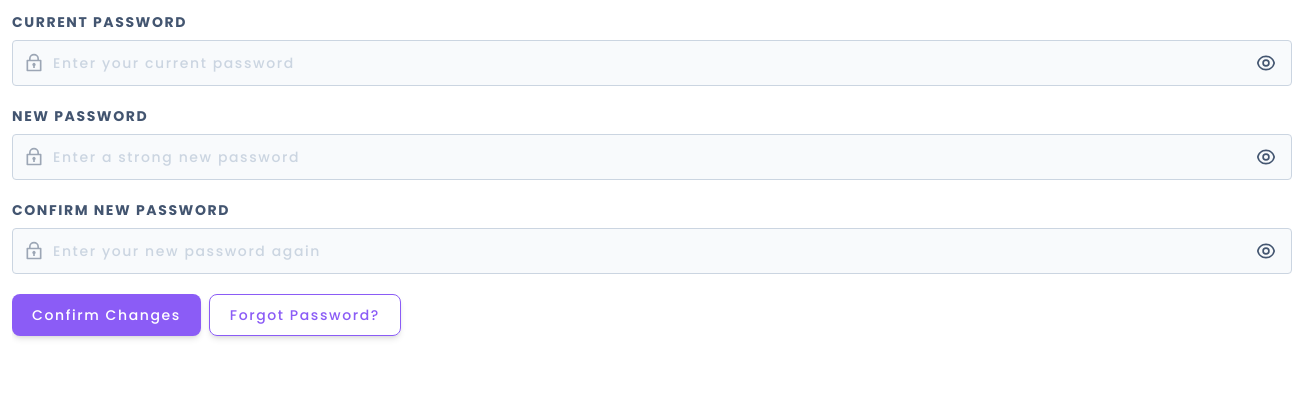
it: PasswordUpdateForm › should display error messages for invalid inputs
Click the button "Confirm Changes" at (106,315), box left=12, top=294, right=201, bottom=336
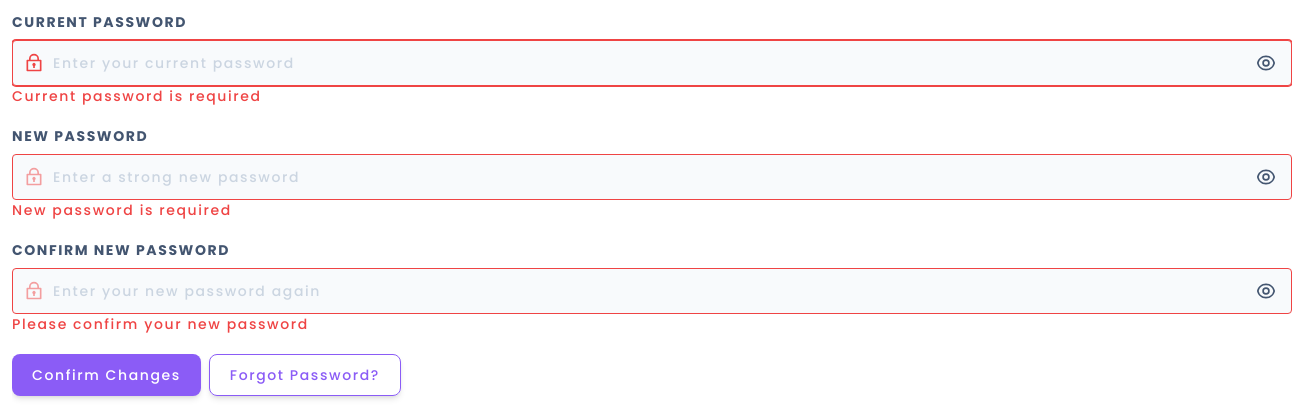
Now the text "Current password is required" is shown, box left=12, top=86, right=262, bottom=106
Now the text "New password is required" is shown, box left=12, top=200, right=232, bottom=220
Now the text "Please confirm your new password" is shown, box left=12, top=314, right=309, bottom=334
Type "weak" into the password field labelled "Current Password" at (652,63), box left=12, top=40, right=1292, bottom=86
Leave the password field labelled "Current Password", box left=12, top=40, right=1292, bottom=86
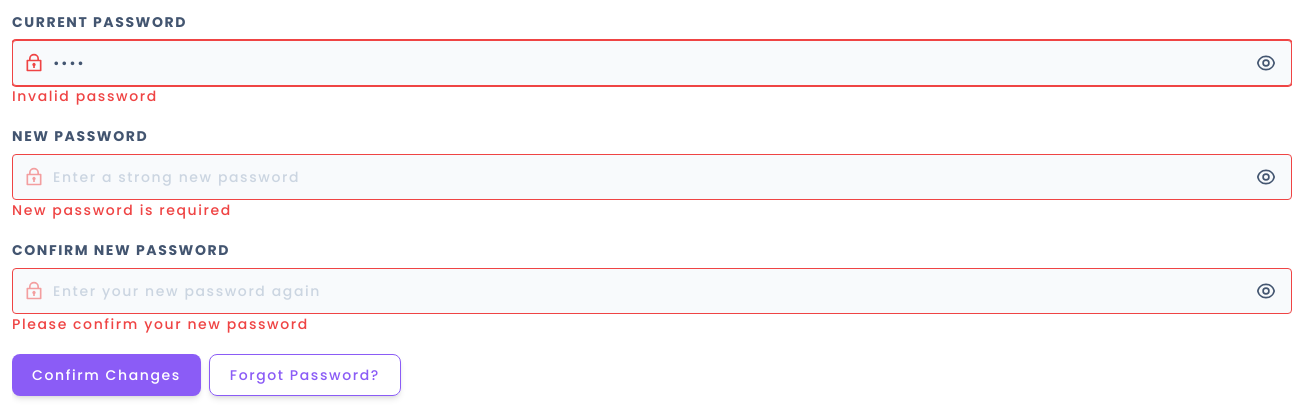
Now the text "Invalid password" is shown, box left=12, top=86, right=158, bottom=106
Type "weak" into the password field labelled "New Password" at (652,177), box left=12, top=154, right=1292, bottom=200
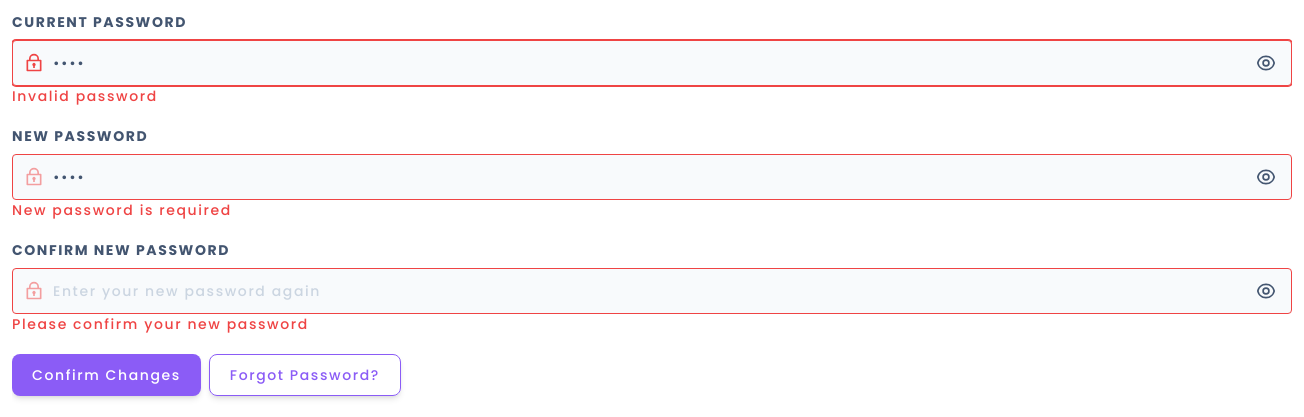
Leave the password field labelled "New Password", box left=12, top=154, right=1292, bottom=200
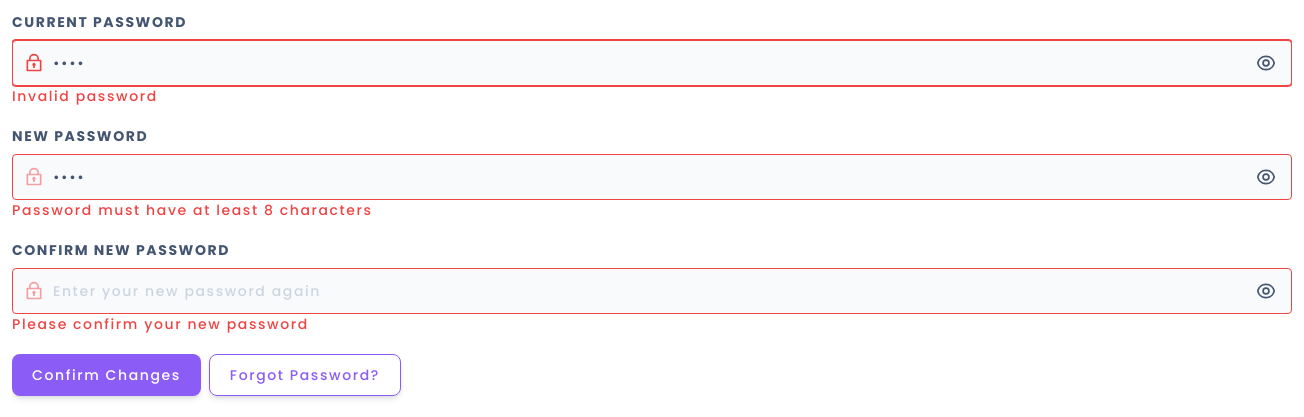
Now the text "Password must have at least 8 characters" is shown, box left=12, top=200, right=373, bottom=220
Type "mismatch" into the password field labelled "Confirm New Password" at (652,291), box left=12, top=268, right=1292, bottom=314
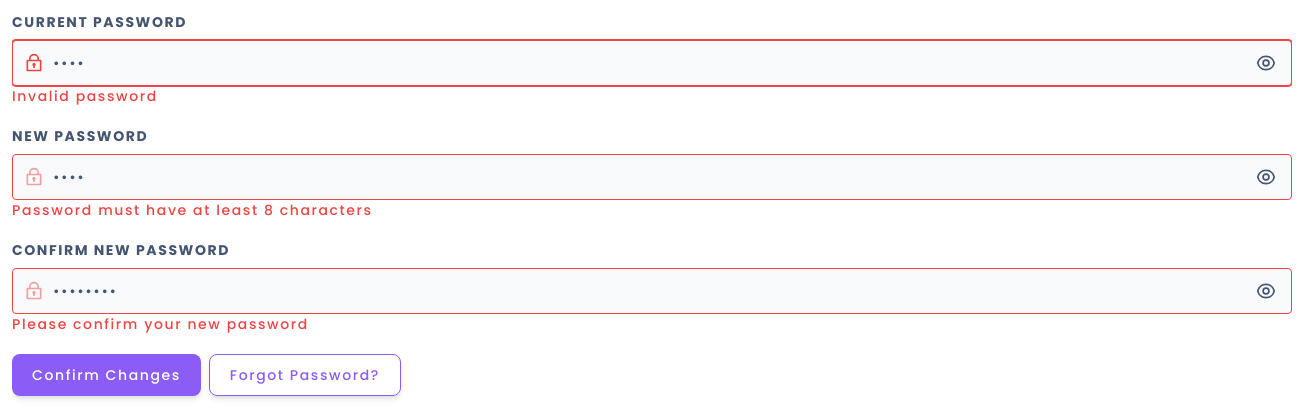
Leave the password field labelled "Confirm New Password", box left=12, top=268, right=1292, bottom=314
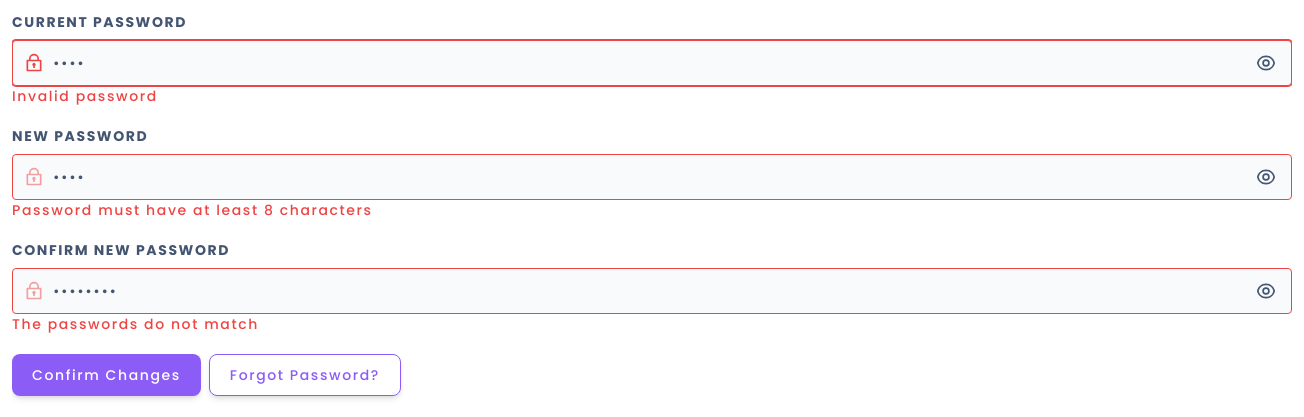
Now the text "The passwords do not match" is shown, box left=12, top=314, right=259, bottom=334
